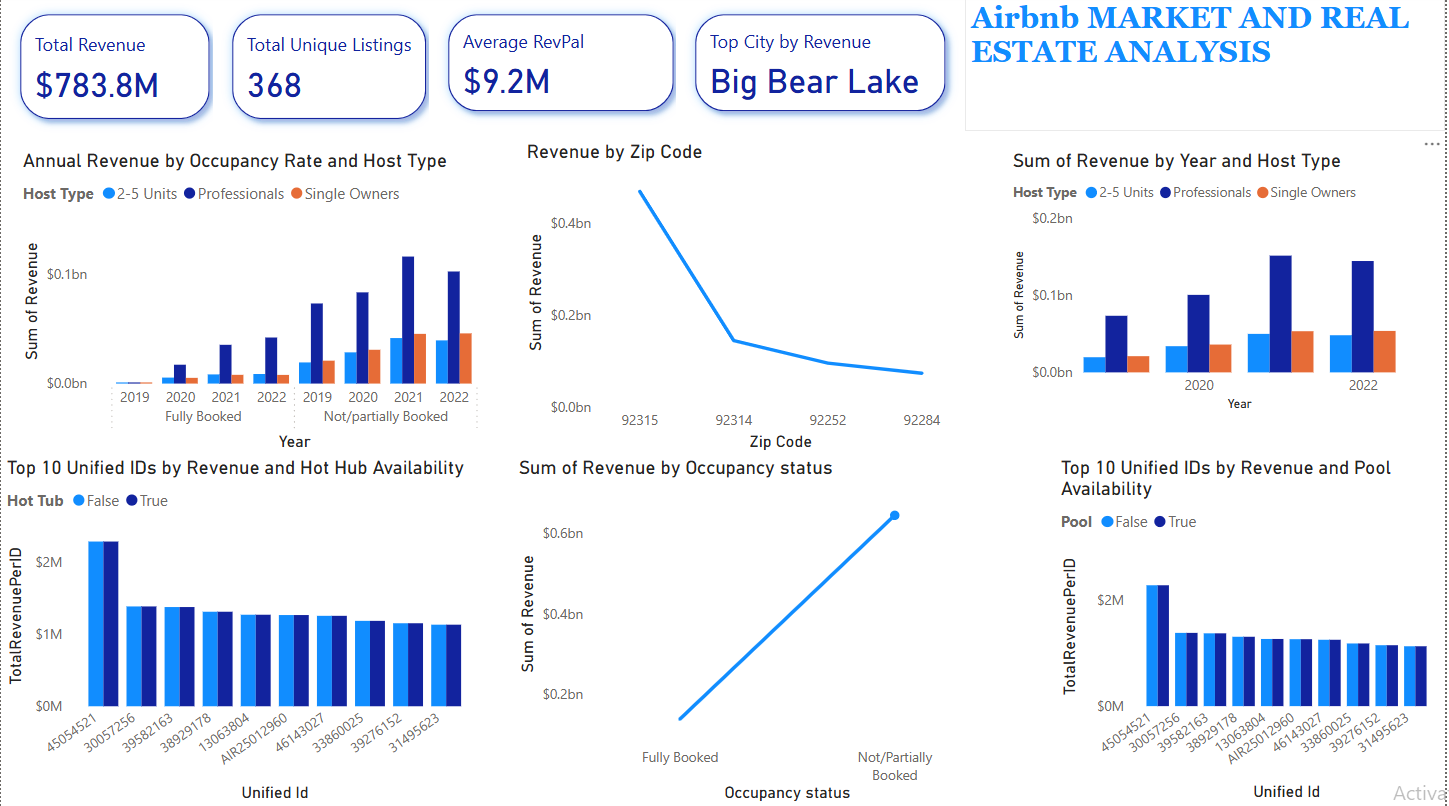

The dashboard page shown, as its layout file describes it:
{"tool":"powerbi","page":{"name":"Dashboard 2","canvas":[1280,720],"ordinal":1},"visuals":[{"type":"lineChart","title":"Revenue by Zip Code","fields":{"Category":["market_analysis_clean.Zip Code2"],"Y":["Sum(market_analysis_clean.Revenue)"]},"box":[461,128.4,393.9,280.1],"z":0},{"type":"clusteredColumnChart","title":"Annual Revenue by Occupancy Rate and Host Type","fields":{"Category":["market_analysis_clean.Occupancy Status","market_analysis_clean.Date.Variation.Date Hierarchy.Year"],"Y":["Sum(market_analysis_clean.Revenue)"],"Series":["market_analysis_clean.Host Type"]},"box":[14.6,136.2,425,272.3],"z":1000},{"type":"textbox","box":[854.8,0,425.6,120.6],"z":2000},{"type":"cardVisual","fields":{"Data":["Amenities calculations (2).Total Revenue"]},"box":[0,0,202.2,127.7],"z":3000},{"type":"cardVisual","fields":{"Data":["Amenities calculations (2).Total Listings"]},"box":[188,0,206.6,127.7],"z":4000},{"type":"cardVisual","fields":{"Data":["Amenities calculations (2).Average RevPal"]},"box":[379.5,0,234.1,120.6],"z":5000},{"type":"clusteredColumnChart","title":"Top 10 Unified IDs by Revenue and Hot Hub Availability","fields":{"Category":["market_analysis_clean.Unified Id"],"Y":["Amenities calculations (2).TotalRevenuePerID"],"Series":["amenities.Hot Tub"]},"box":[0,408.5,427,311.2],"z":6000},{"type":"clusteredColumnChart","title":"Top 10 Unified IDs by Revenue and Pool Availability","fields":{"Category":["market_analysis_clean.Unified Id"],"Y":["Amenities calculations (2).TotalRevenuePerID"],"Series":["amenities.Pool"]},"box":[934.7,408.5,345.3,311.2],"z":7000},{"type":"clusteredColumnChart","fields":{"Category":["market_analysis_clean.Date.Variation.Date Hierarchy.Year"],"Y":["Sum(market_analysis_clean.Revenue)"],"Series":["market_analysis_clean.Host Type"]},"box":[891.9,136.2,350.2,237.3],"z":8000},{"type":"lineChart","fields":{"Category":["Calculations.Occupancy status","market_analysis_clean.Zip Code"],"Y":["Sum(Calculations.Revenue)"]},"box":[454.2,408.5,427,311.2],"z":9000},{"type":"cardVisual","fields":{"Data":["market_analysis_clean.Top City"]},"box":[598.5,0,256.3,120.6],"z":10000}]}

Visuals, with their boxes in screenshot pixels (x1, y1, x2, y2), scaled from the page's 1280x720 canvas onto the 1449x806 screenshot:
"Revenue by Zip Code" lineChart: crop(522, 144, 968, 457)
"Annual Revenue by Occupancy Rate and Host Type" clusteredColumnChart: crop(17, 152, 498, 457)
textbox: crop(968, 0, 1448, 135)
cardVisual - Amenities calculations (2).Total Revenue: crop(0, 0, 229, 143)
cardVisual - Amenities calculations (2).Total Listings: crop(213, 0, 447, 143)
cardVisual - Amenities calculations (2).Average RevPal: crop(430, 0, 695, 135)
"Top 10 Unified IDs by Revenue and Hot Hub Availability" clusteredColumnChart: crop(0, 457, 483, 805)
"Top 10 Unified IDs by Revenue and Pool Availability" clusteredColumnChart: crop(1058, 457, 1448, 805)
clusteredColumnChart - market_analysis_clean.Date.Variation.Date Hierarchy.Year x Sum(market_analysis_clean.Revenue): crop(1010, 152, 1406, 418)
lineChart - Calculations.Occupancy status x market_analysis_clean.Zip Code: crop(514, 457, 998, 805)
cardVisual - market_analysis_clean.Top City: crop(678, 0, 968, 135)
